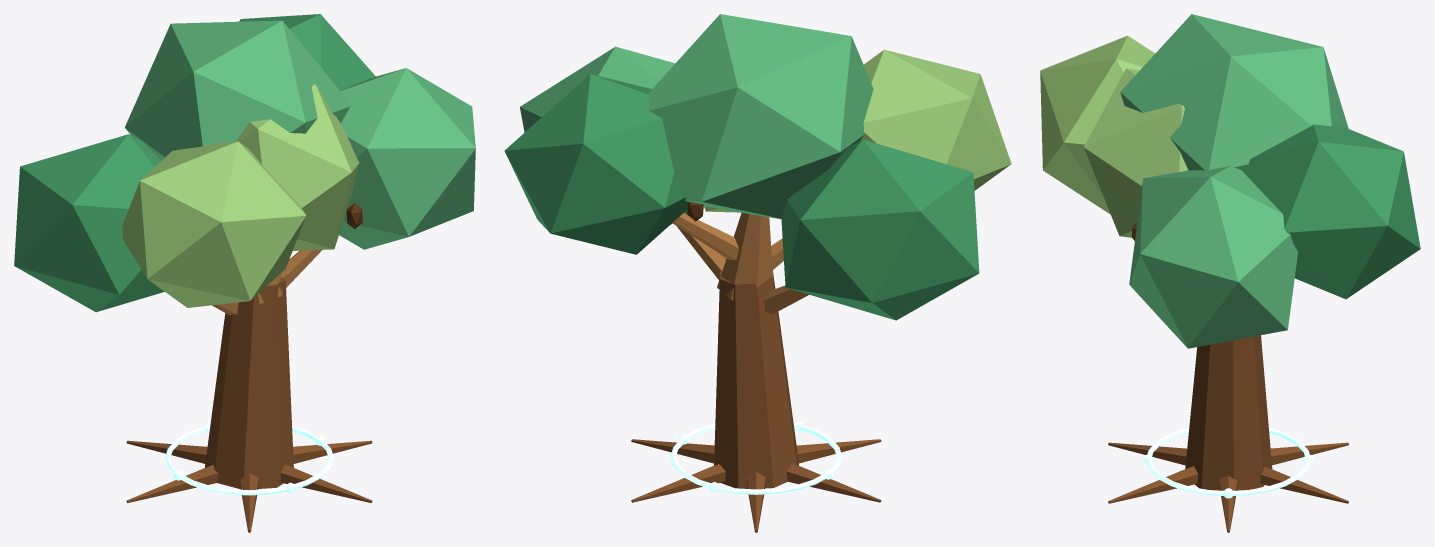
File: mature.glb
3 renders of one model, left to right at view 1: azimuth 30°, elevation 25°; view 2: azimuth 150°, elevation 25°; view 3: azimuth 270°, elevation 25°, orthographic. The views are drawn at different scales.
Visible parts, largest first — view 1: Oak_Canopy_03, Oak_Canopy_05, Oak_Canopy_02, Oak_Canopy_01, Trunk_Base, Oak_Canopy_06, Oak_Canopy_04, Chrono_Energy_Ring, Root_06, Root_04, Root_03, Root_01 (+2 smaller); view 2: Oak_Canopy_05, Oak_Canopy_01, Oak_Canopy_04, Trunk_Base, Oak_Canopy_03, Oak_Canopy_02, Trunk_Crown, Chrono_Energy_Ring, Branch_04, Root_04, Root_02, Root_05 (+4 smaller); view 3: Oak_Canopy_02, Oak_Canopy_05, Oak_Canopy_04, Trunk_Base, Oak_Canopy_03, Oak_Canopy_06, Chrono_Energy_Ring, Root_06, Root_02, Root_05, Root_03, Root_01.
Boxes of the visible parts, x1,y1,x2,y2 form: Oak_Canopy_03: (122, 141, 306, 307); Oak_Canopy_05: (125, 20, 350, 160); Oak_Canopy_02: (339, 68, 475, 249); Oak_Canopy_01: (14, 134, 164, 312); Trunk_Base: (205, 277, 293, 489); Oak_Canopy_06: (235, 84, 359, 250); Oak_Canopy_04: (239, 14, 375, 90); Chrono_Energy_Ring: (165, 426, 333, 495); Root_06: (280, 464, 372, 502); Root_04: (126, 465, 217, 502); Root_03: (126, 440, 207, 463); Root_01: (293, 440, 372, 463); Oak_Canopy_05: (648, 14, 873, 219); Oak_Canopy_01: (781, 139, 979, 320); Oak_Canopy_04: (504, 74, 688, 254); Trunk_Base: (714, 270, 798, 488); Oak_Canopy_03: (860, 49, 1011, 190); Oak_Canopy_02: (520, 46, 687, 224); Trunk_Crown: (717, 212, 773, 300); Chrono_Energy_Ring: (670, 423, 842, 494); Branch_04: (672, 213, 738, 259); Root_04: (786, 464, 881, 502); Root_02: (631, 464, 725, 502); Root_05: (796, 439, 881, 463); Oak_Canopy_02: (1129, 166, 1297, 348); Oak_Canopy_05: (1120, 14, 1348, 170); Oak_Canopy_04: (1242, 123, 1420, 299); Trunk_Base: (1185, 335, 1272, 490); Oak_Canopy_03: (1040, 35, 1154, 214); Oak_Canopy_06: (1083, 68, 1187, 237); Chrono_Energy_Ring: (1146, 427, 1310, 495); Root_06: (1108, 466, 1197, 503); Root_02: (1260, 466, 1348, 503); Root_05: (1108, 442, 1187, 465); Root_03: (1270, 442, 1348, 465); Root_01: (1219, 475, 1237, 532).
Bounding box in the file's own units: 3.95 × 3.7 × 2.92.
